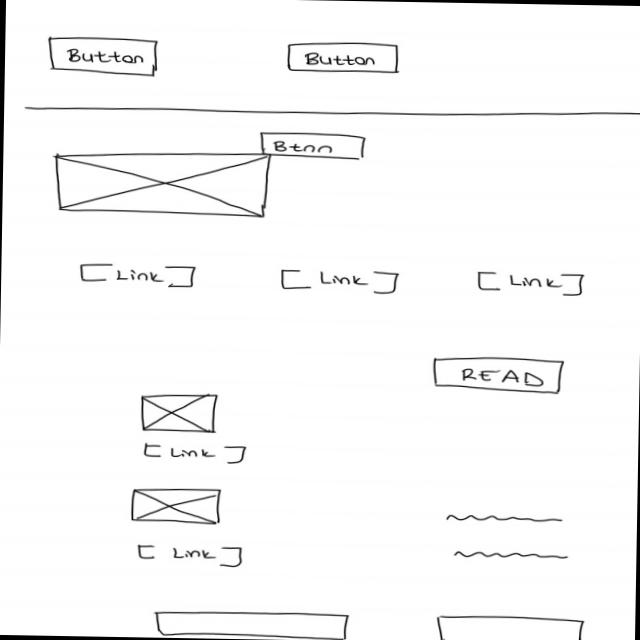button: (432, 354, 566, 394), (46, 33, 160, 77), (284, 40, 400, 74), (259, 130, 367, 159)
image: (53, 147, 272, 217), (129, 486, 222, 525), (140, 391, 220, 434)
input: (153, 608, 350, 640), (434, 613, 585, 640)
link: (278, 266, 400, 296), (474, 268, 588, 298), (78, 262, 198, 288), (138, 544, 245, 568), (141, 442, 248, 464)
text: (442, 512, 568, 526), (452, 548, 574, 562)
